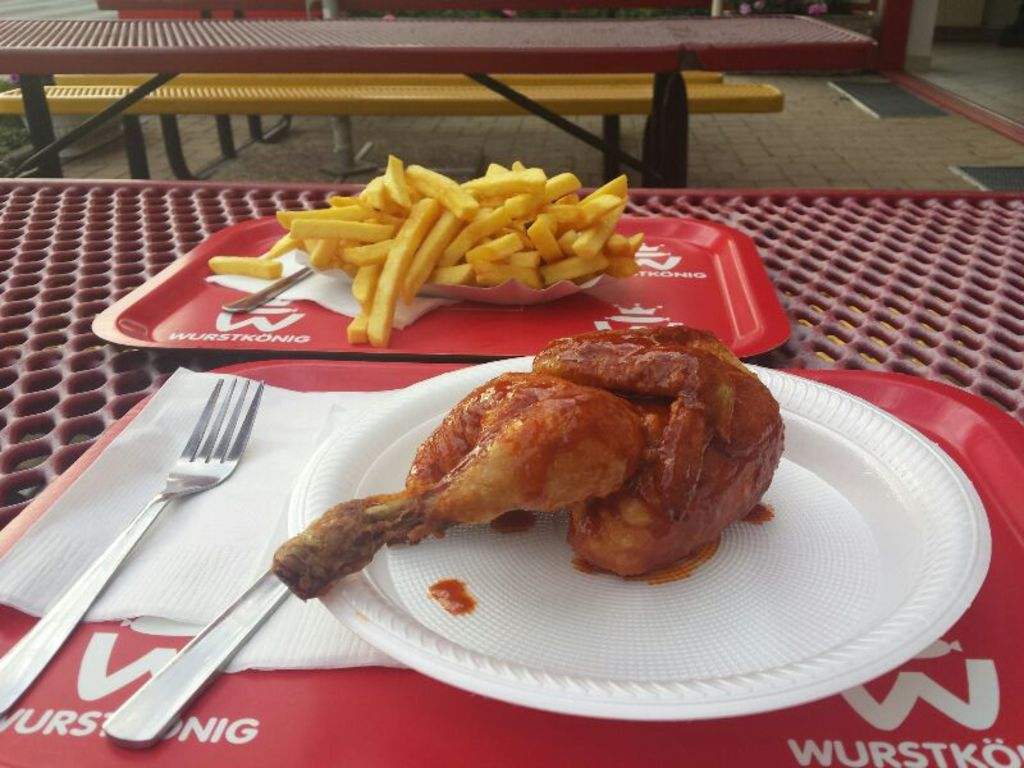French fries: (203, 148, 646, 349)
